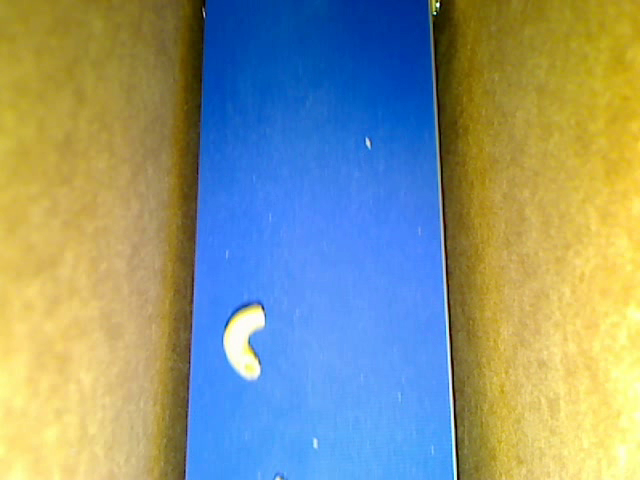elbow: (222, 302, 265, 381)
